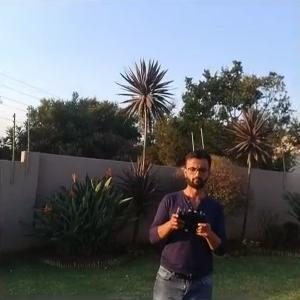follow: (140, 139, 235, 298)
